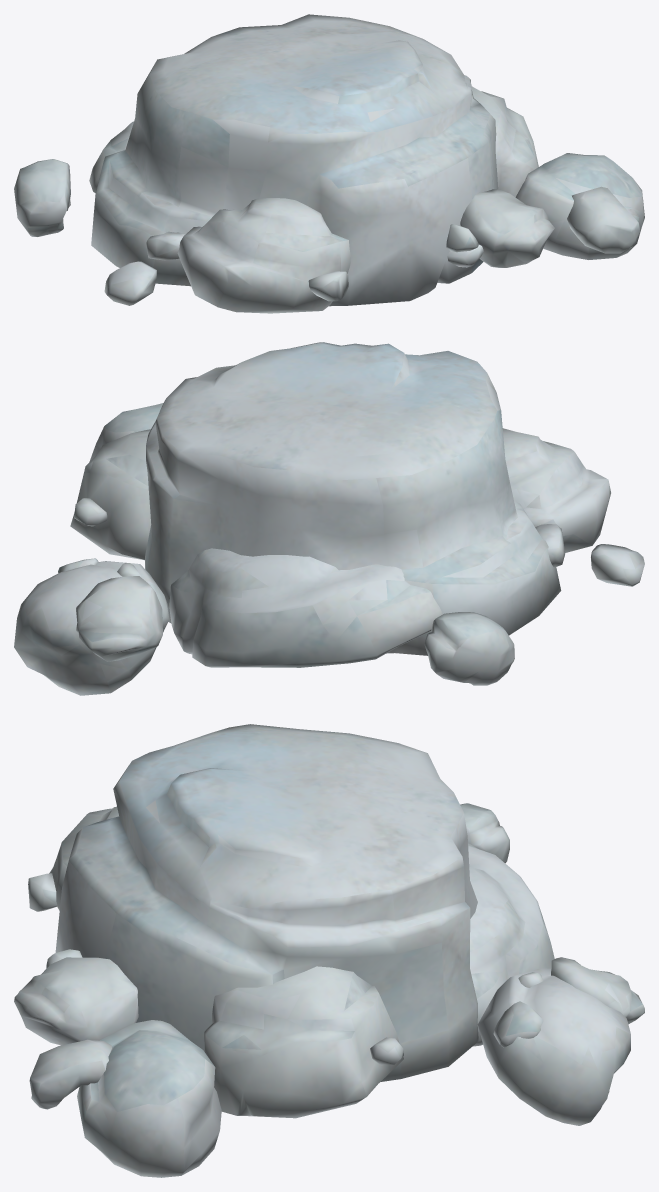
The model's file is P_RockDesert_Clump10.obj.
The picture shows the model from 3 angles, top to bottom: view 1: azimuth 30°, elevation 25°; view 2: azimuth 150°, elevation 25°; view 3: azimuth 270°, elevation 25°; orthographic projection. The views are drawn at different scales.
Bounding box in the file's own units: 11.53 × 4.75 × 10.28.
